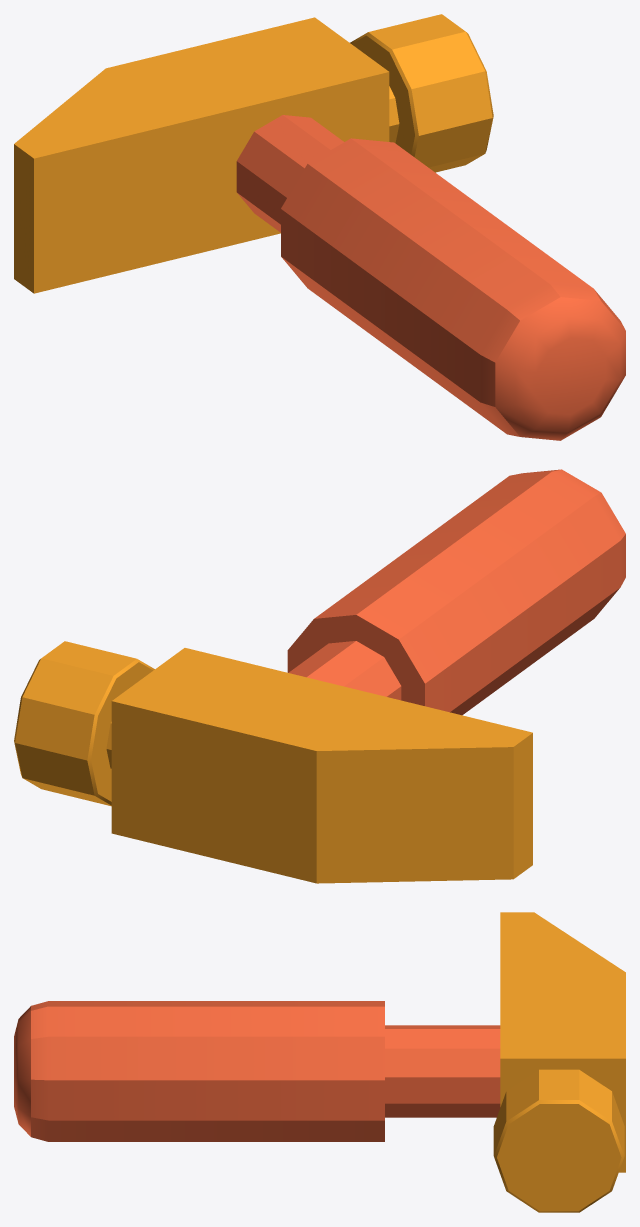
File: Hammer.fbx
3 renders of one model, top to bottom at view 1: azimuth 30°, elevation 25°; view 2: azimuth 150°, elevation 25°; view 3: azimuth 270°, elevation 25°, orthographic. The views are drawn at different scales.
Parts seen in each view (by area): view 1: Hammer; view 2: Hammer; view 3: Hammer.
Boxes of the visible parts, bbox=[...] form: Hammer: bbox=[14, 14, 625, 440]; Hammer: bbox=[14, 469, 625, 883]; Hammer: bbox=[14, 912, 625, 1212].
Size of the model in its own units: 13.87 by 4.47 by 19.03.
1 material, 1 textured.
